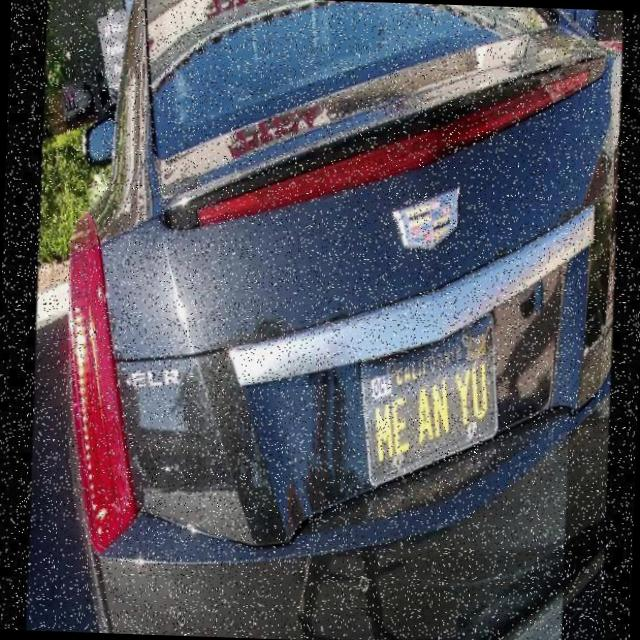LicensePlate: (353, 315, 510, 471)
